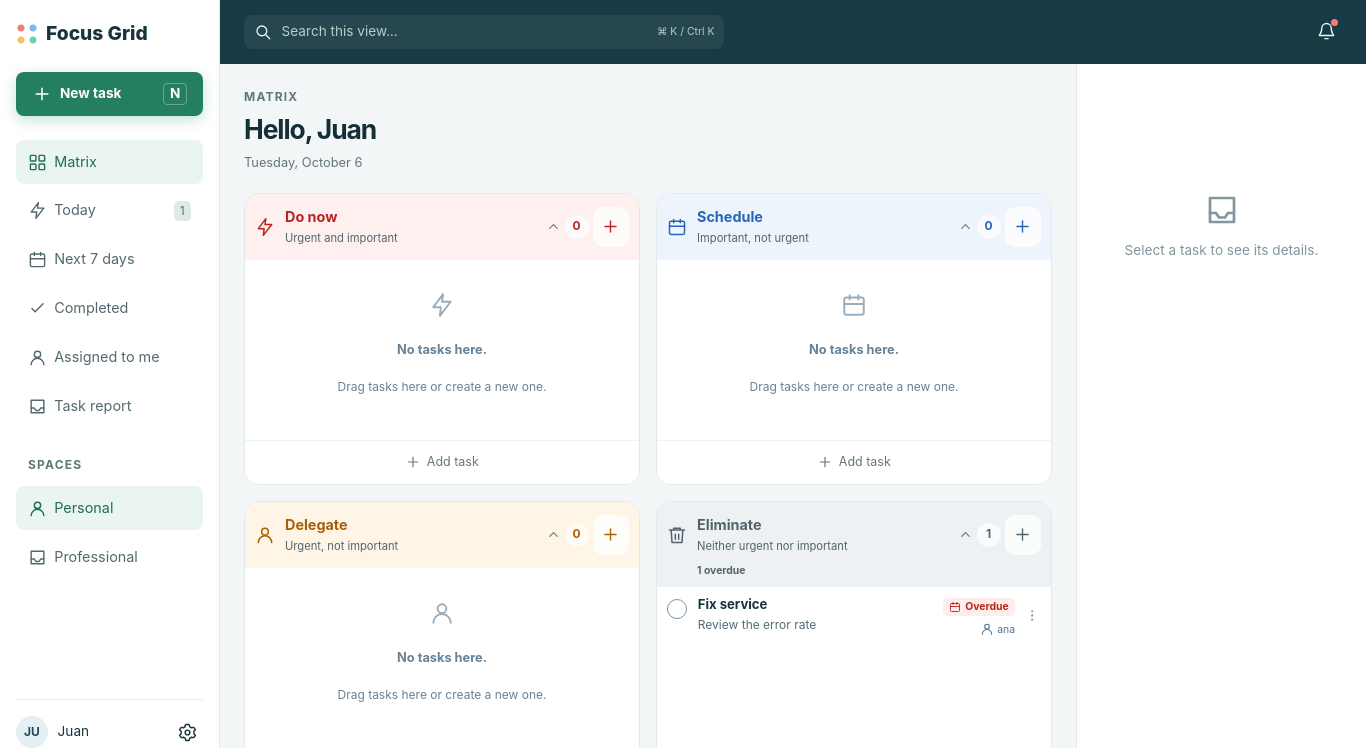
Test: compact task workspace › moves a completed task out of Eliminate into the report and reopens in its original quadrant
Expected: the element "Fix service" is shown, left=657, top=587, right=1051, bottom=646
Step 1. Click the button named "Complete" → coordinates (677, 609), box left=667, top=599, right=687, bottom=619
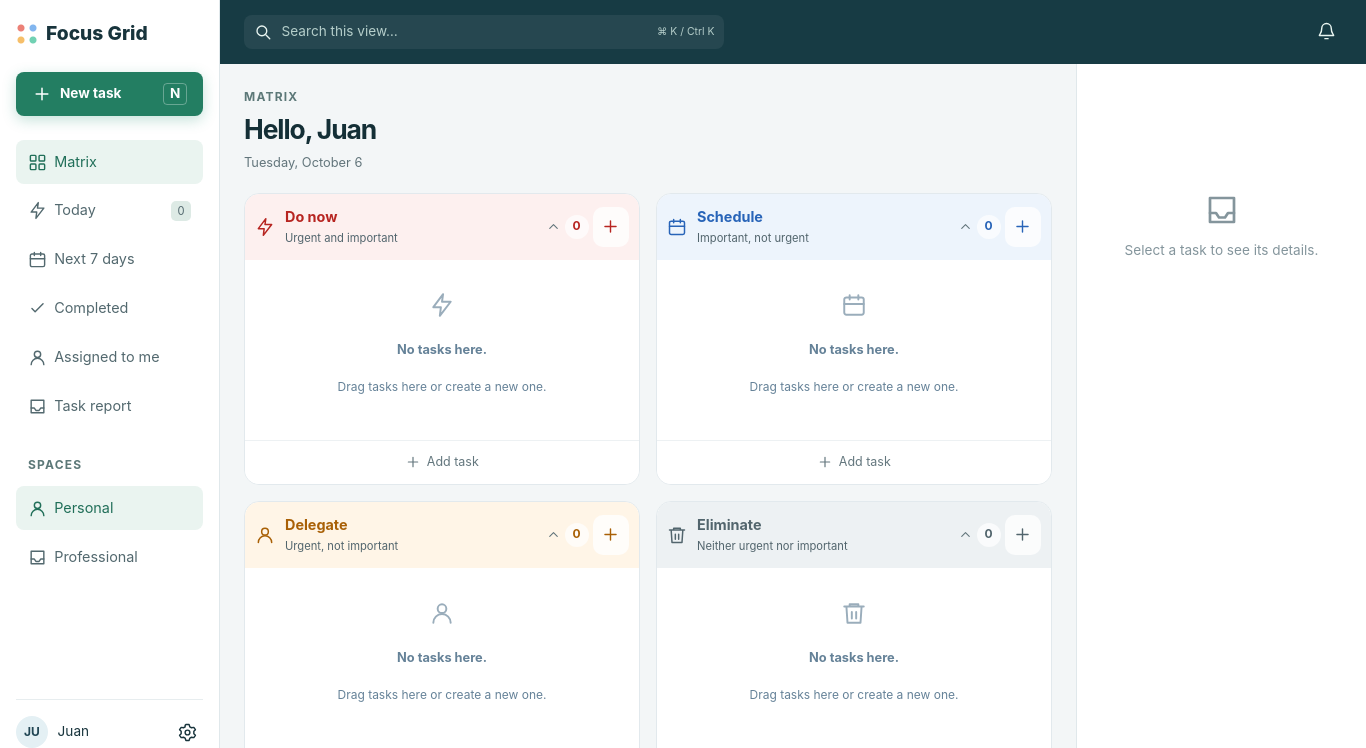
Expected: the text named "0 tasks" is shown, left=977, top=522, right=1001, bottom=546
Step 2. Click the button "Task report" → coordinates (110, 406), box left=16, top=384, right=203, bottom=428
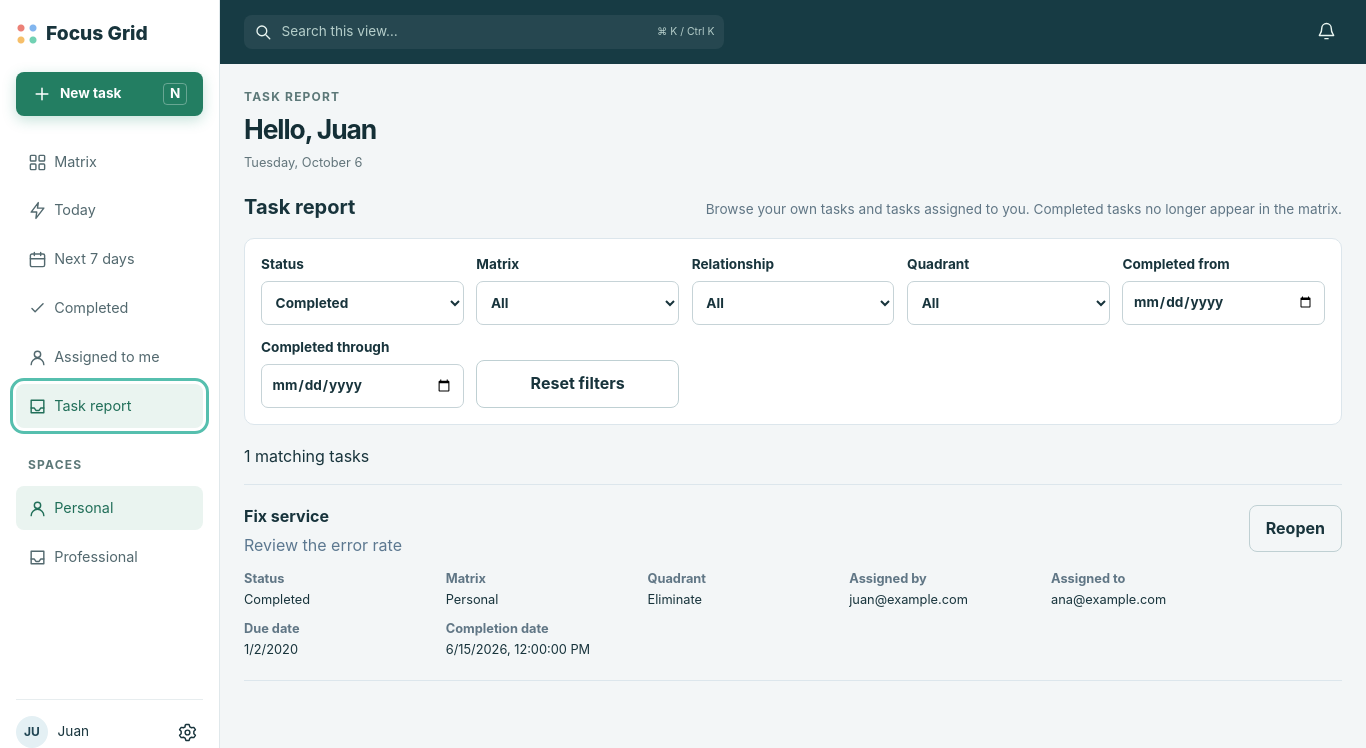
Expected: the heading "Fix service" is shown, left=244, top=506, right=329, bottom=526
Expected: the number of list items is 1, left=244, top=485, right=1342, bottom=681
Expected: the dropdown labelled "Status" shows "Completed", left=261, top=281, right=464, bottom=325
Step 3. Click the button "Reopen" → coordinates (1295, 529), box left=1249, top=505, right=1342, bottom=552
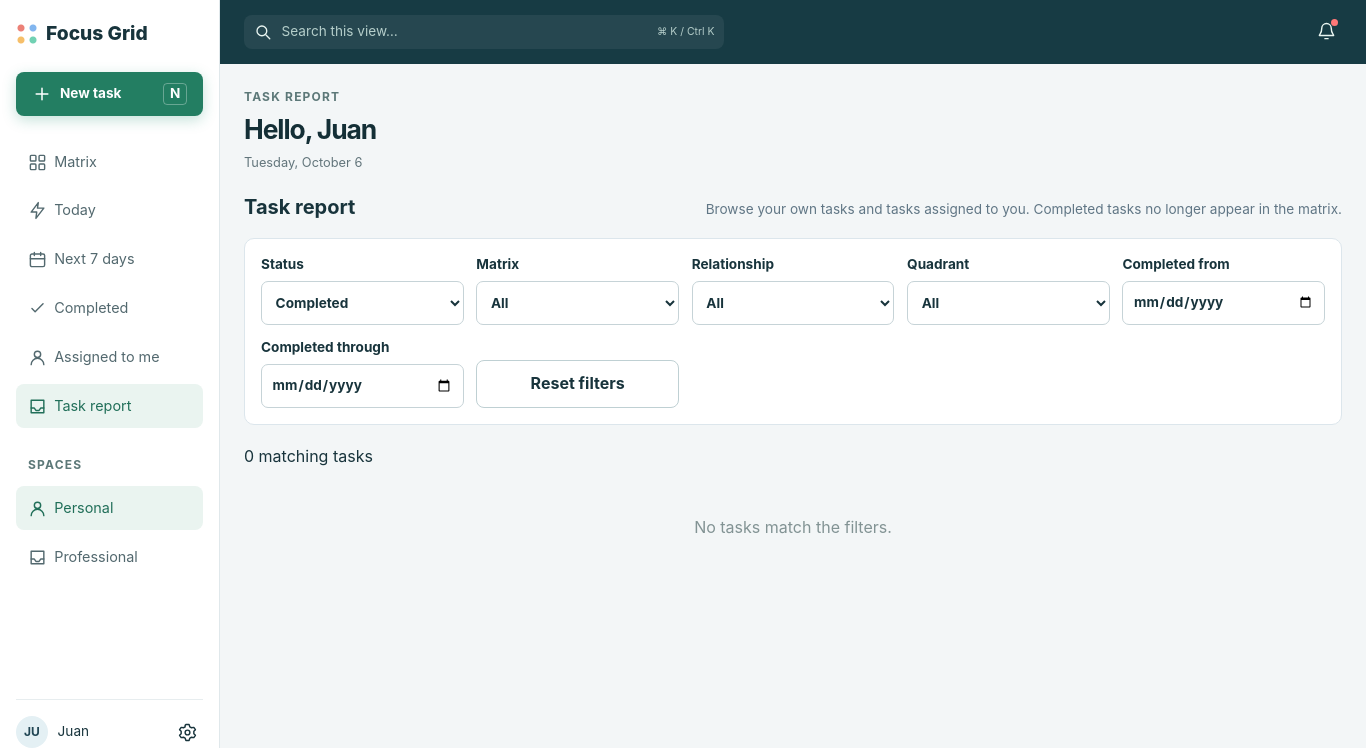
Expected: the message reads "0 matching tasks", left=244, top=446, right=373, bottom=466
Step 4. Click the button "Matrix" → coordinates (110, 162), box left=16, top=140, right=203, bottom=184
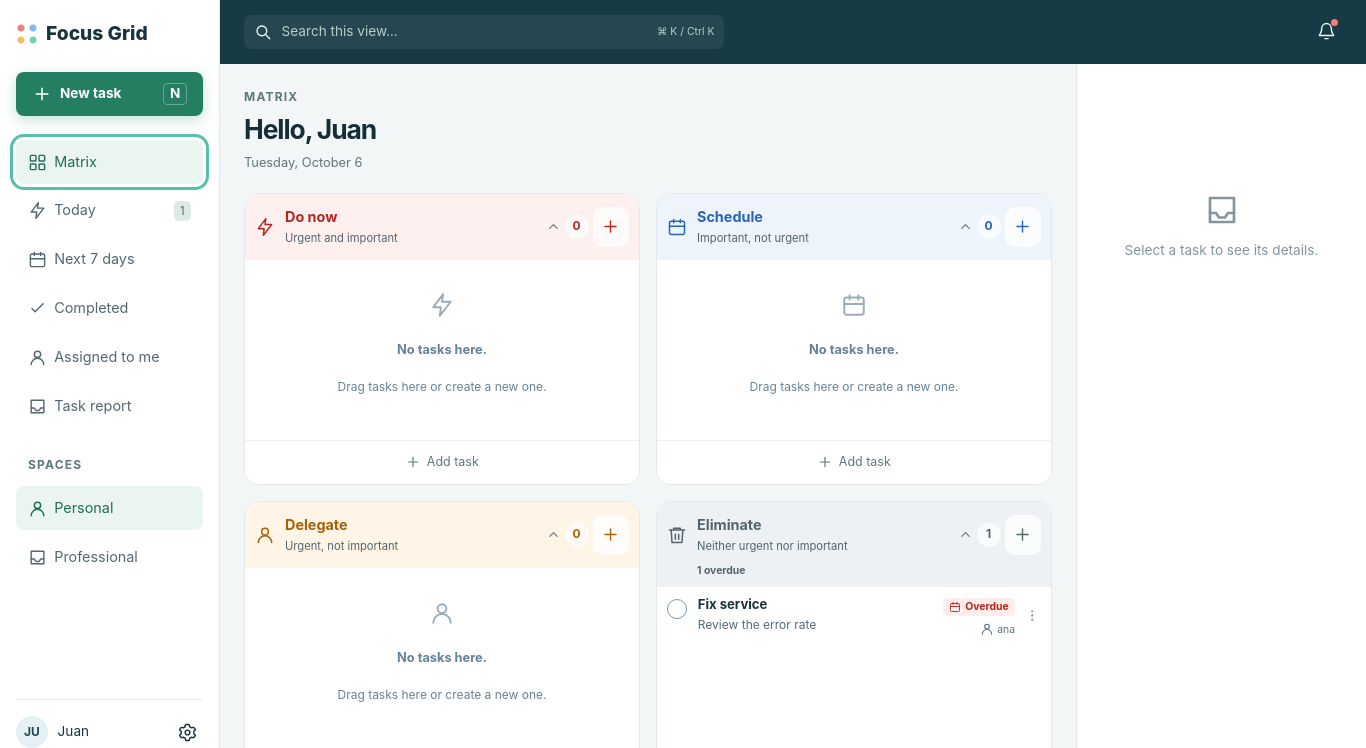
Expected: the element "Fix service" is shown, left=657, top=587, right=1051, bottom=646
